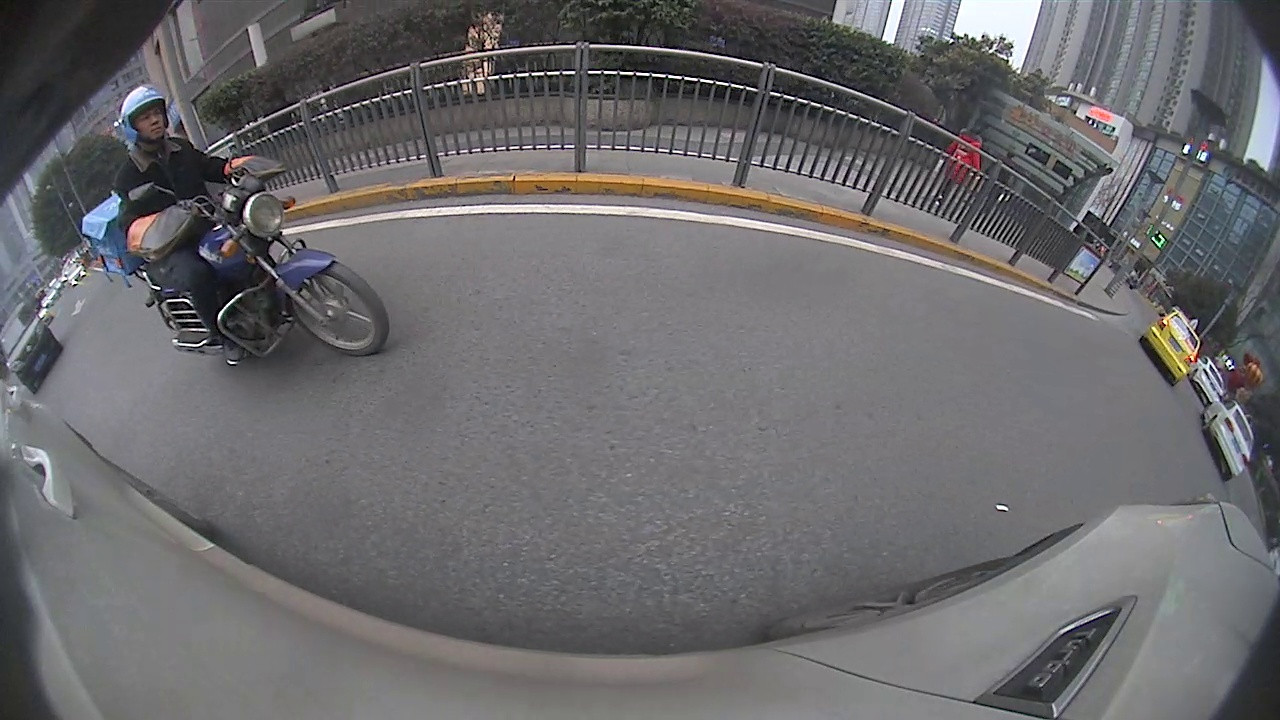car: (0, 298, 63, 395), (1139, 309, 1203, 387), (1198, 397, 1257, 480)
front: (287, 260, 389, 357)
rider: (80, 83, 389, 367)
